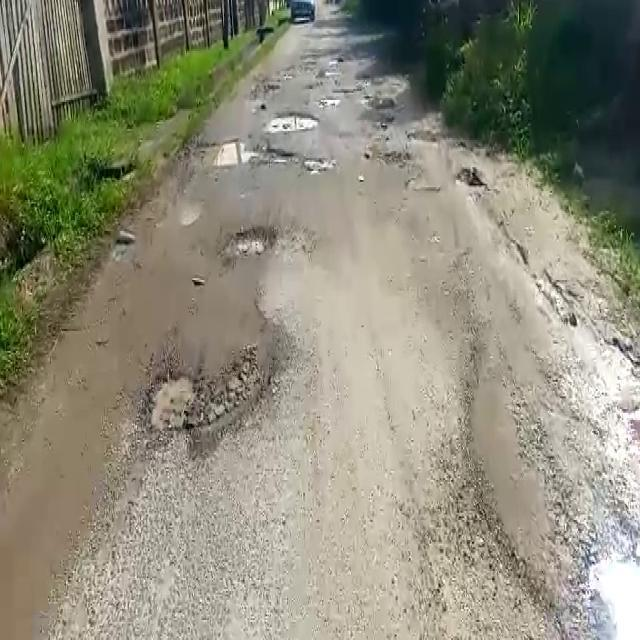pothole: (135, 336, 286, 457), (585, 548, 639, 640), (209, 140, 298, 169), (221, 222, 281, 261), (265, 109, 322, 132), (300, 152, 335, 174)
